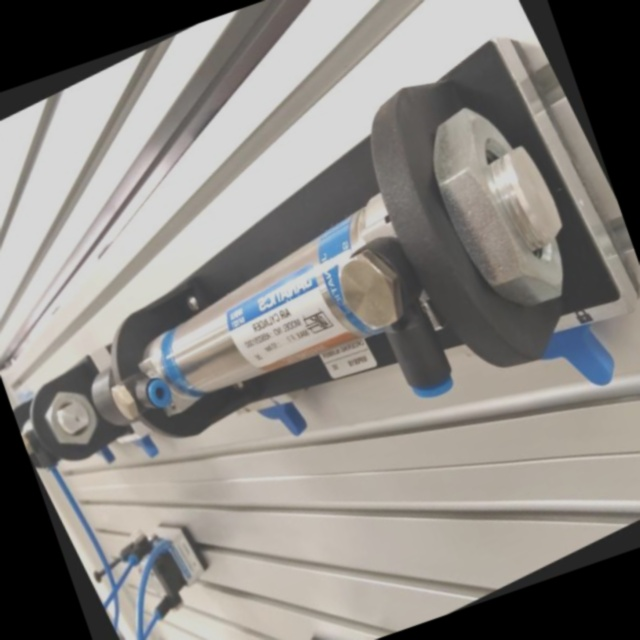double acting pneumatic cylinder: (0, 0, 640, 621)
